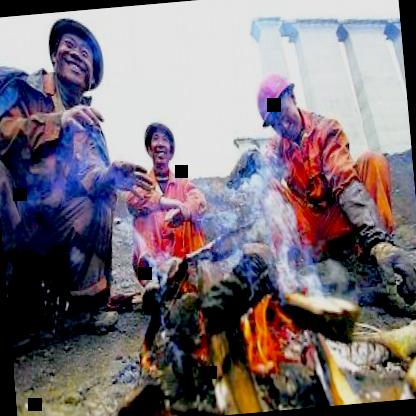helmet: (44, 8, 113, 116), (254, 66, 306, 141), (140, 115, 176, 174)
